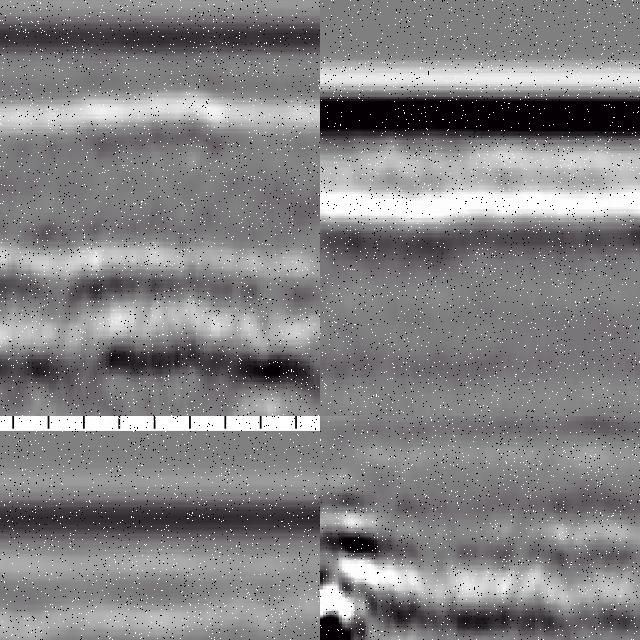crack: (321, 190, 340, 417)
loose: (321, 459, 426, 640)
